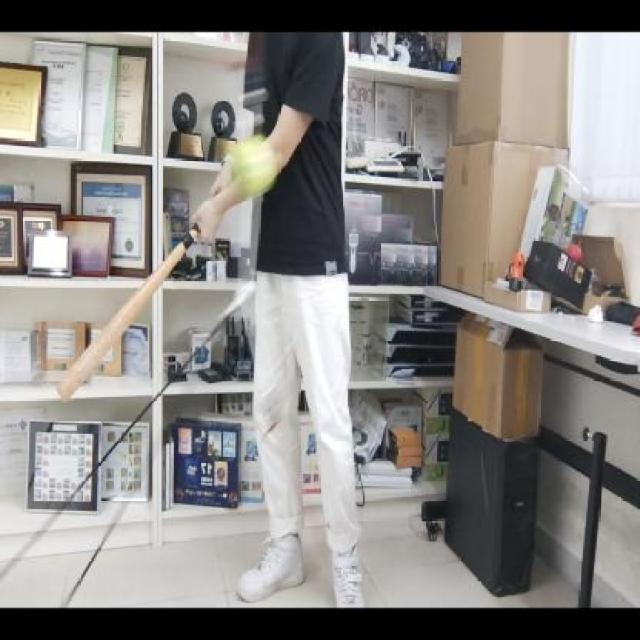baseball: (227, 133, 281, 204)
